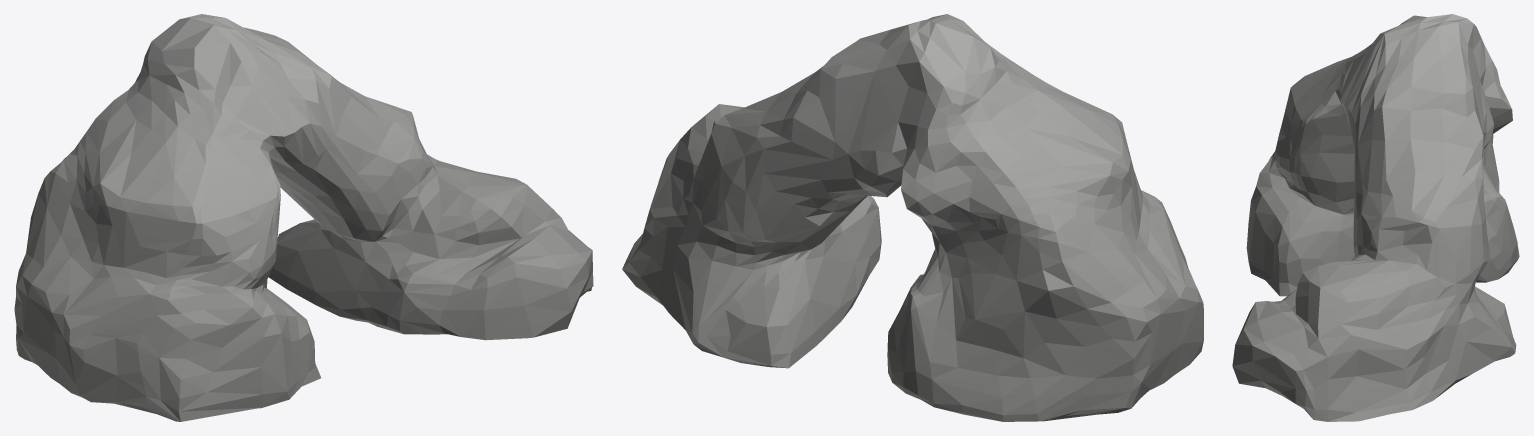
File: Cavern_Entrance-02.fbx
3 views of the same model, side by side, from view 1: azimuth 30°, elevation 25°; view 2: azimuth 150°, elevation 25°; view 3: azimuth 270°, elevation 25° (orthographic). The views are drawn at different scales.
Parts seen in each view (by area): view 1: Cavern_Entrance-02; view 2: Cavern_Entrance-02; view 3: Cavern_Entrance-02.
Part boxes in pixels (x1=…): Cavern_Entrance-02: x1=14, y1=14, x2=593, y2=421; Cavern_Entrance-02: x1=622, y1=14, x2=1203, y2=421; Cavern_Entrance-02: x1=1232, y1=14, x2=1519, y2=421.
Bounding box in the file's own units: 2831 × 1604 × 1545.
1 material, 1 textured.
